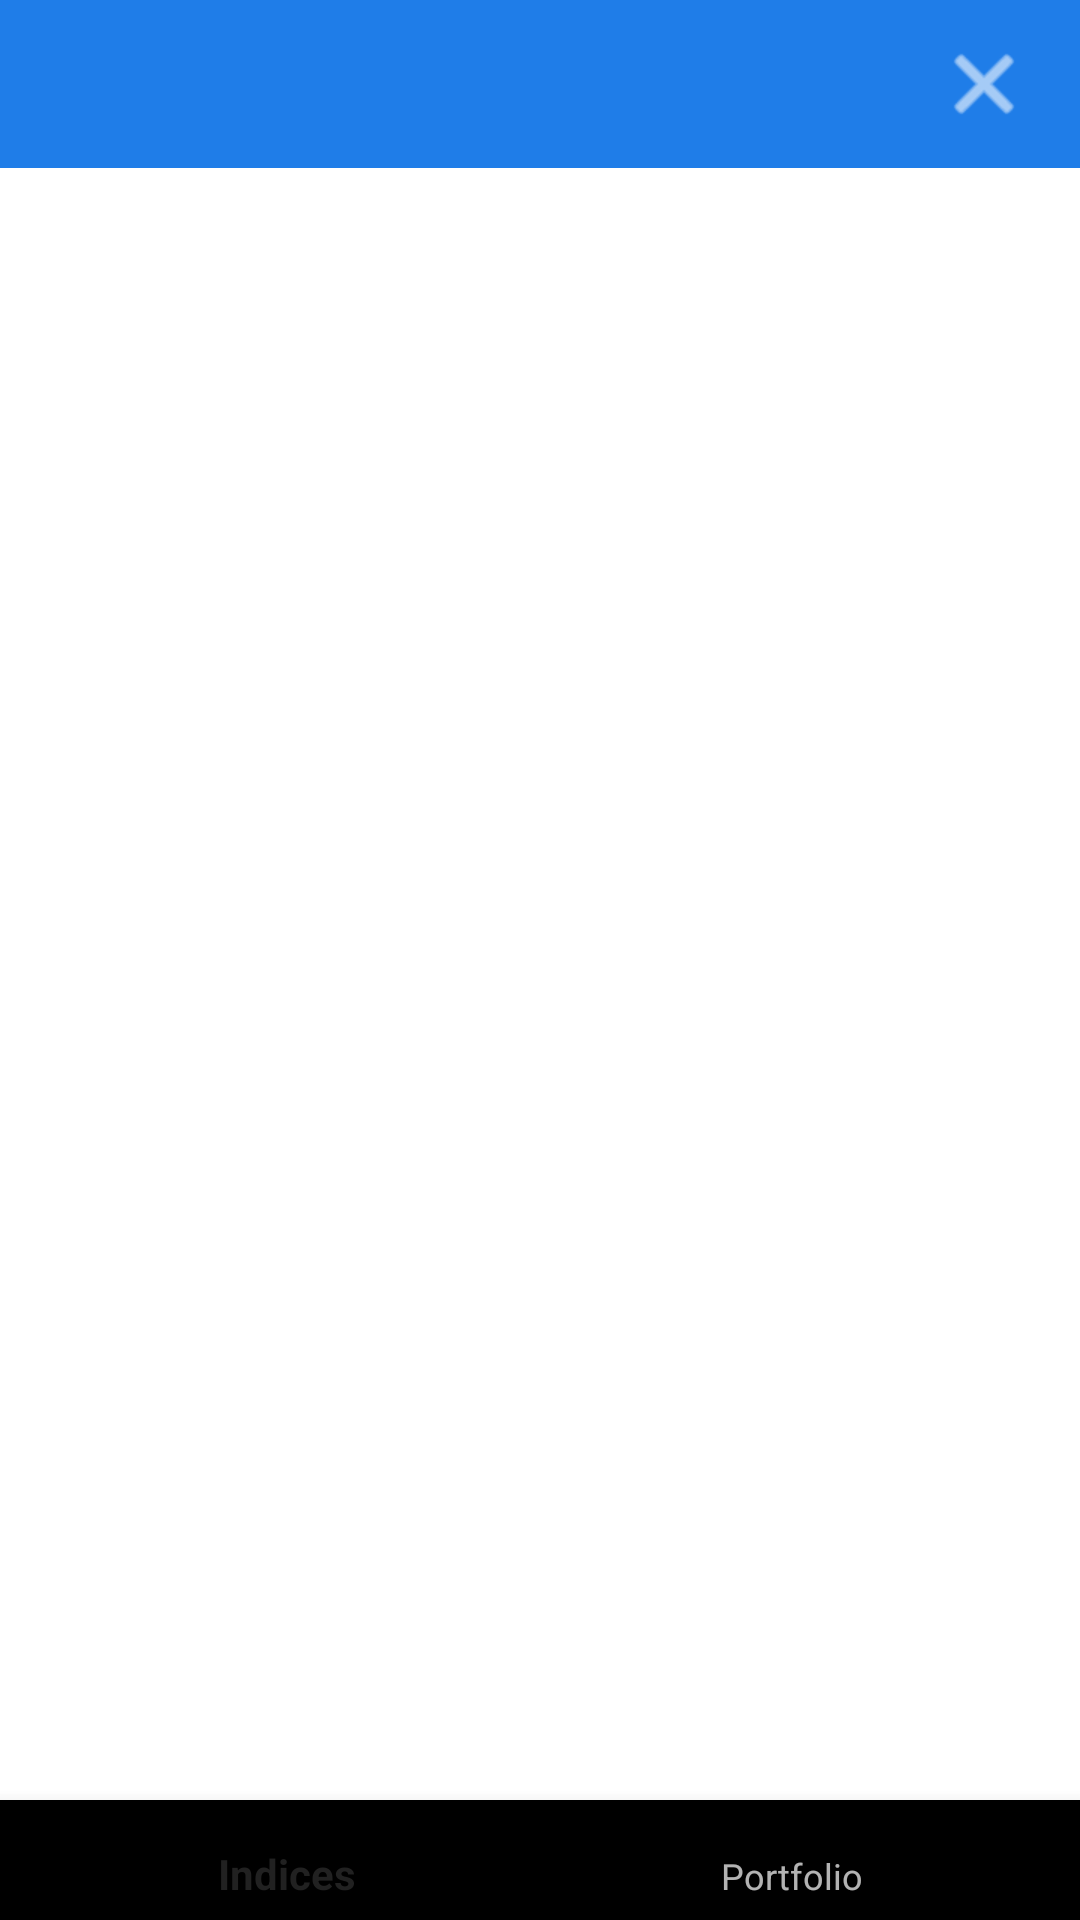

Icons on this 1080*1920 Android screen, each with the point to tap as [x,y]:
close clear cancel: [984,84]
